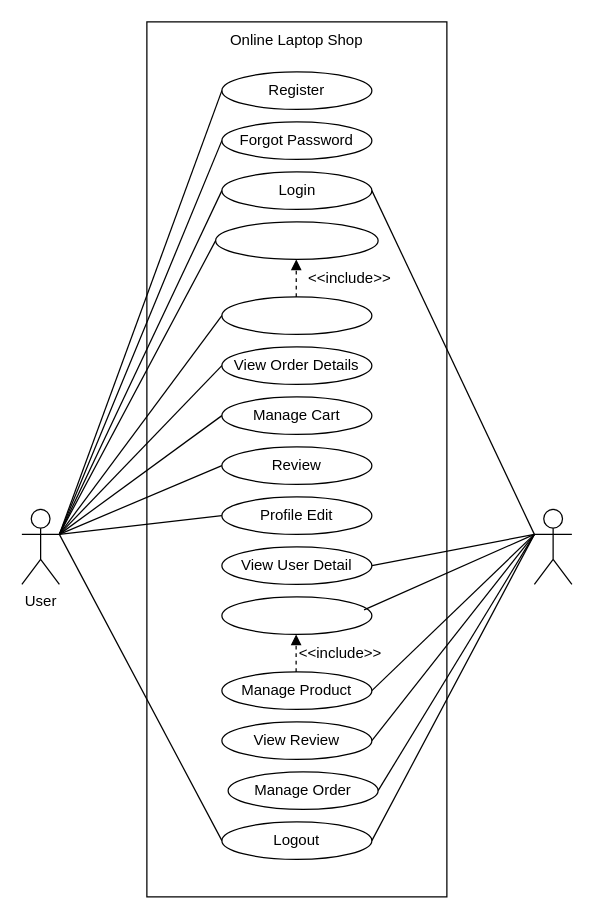
Some shapes in this 596 by 919 pixel diagram are drawn without their labels. The centre of each missing label's shape, as x and y in pixels:
"Admin" goes at pixel 552 546.
"Manage Brand" goes at pixel 296 615.
"Place Order" goes at pixel 296 315.
"View/Search Product" goes at pixel 296 240.
